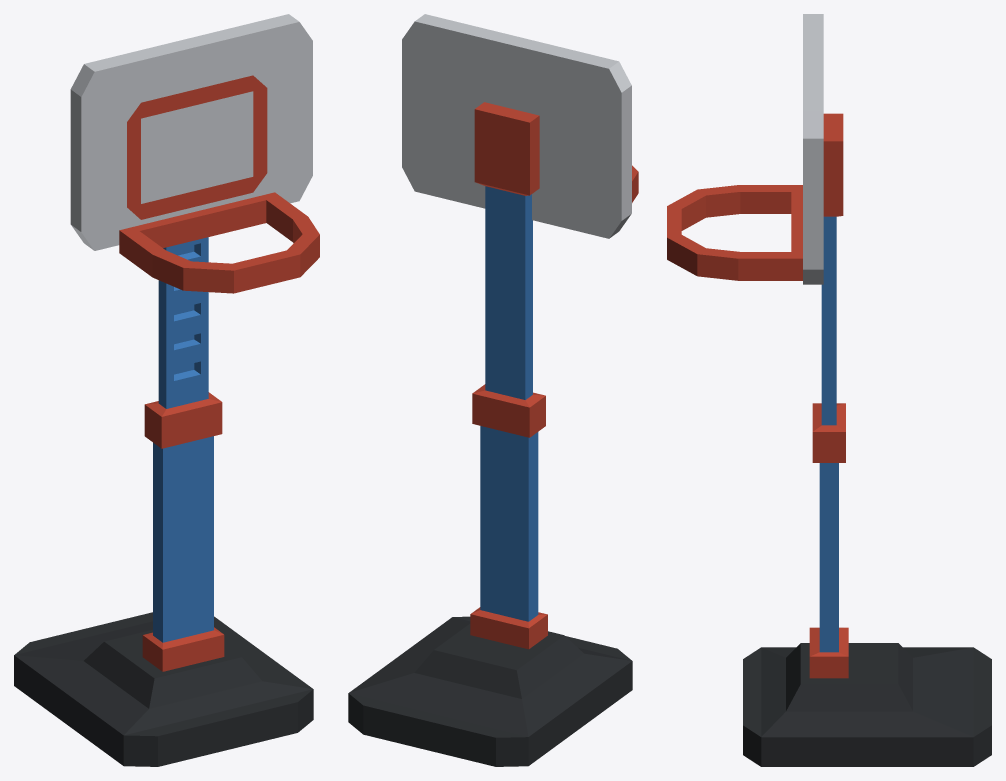
File: SM_Prop_Hoop_Child_01.fbx
The picture shows the model from 3 angles, left to right: view 1: azimuth 30°, elevation 25°; view 2: azimuth 150°, elevation 25°; view 3: azimuth 270°, elevation 25°; orthographic projection. The views are drawn at different scales.
Visible parts, largest first — view 1: SM_Prop_Hoop_Child_01; view 2: SM_Prop_Hoop_Child_01; view 3: SM_Prop_Hoop_Child_01.
Part boxes in pixels (bbox=[...]): SM_Prop_Hoop_Child_01: bbox=[14, 14, 319, 766]; SM_Prop_Hoop_Child_01: bbox=[348, 14, 638, 766]; SM_Prop_Hoop_Child_01: bbox=[667, 14, 991, 766].
Size of the model in its own units: 76.88 by 216 by 96.36.
